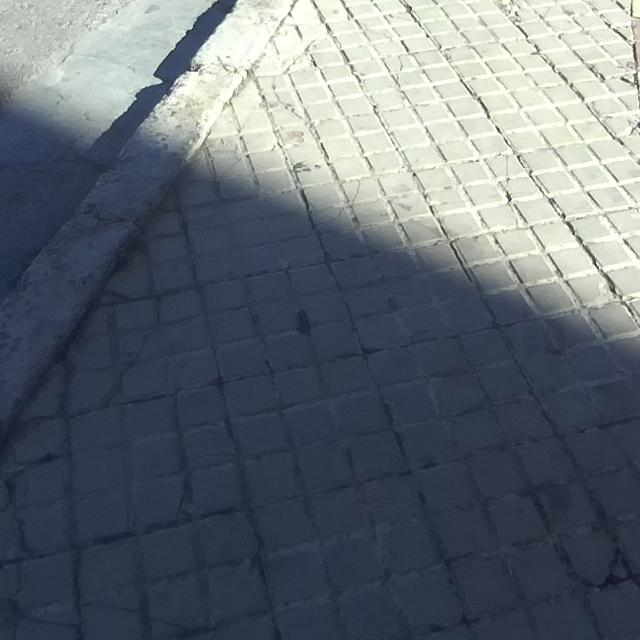calcada_quebrada: (1, 447, 65, 556), (162, 444, 241, 528), (77, 591, 208, 640), (263, 36, 326, 131), (92, 326, 157, 413), (0, 589, 75, 640), (315, 177, 365, 232), (499, 150, 518, 232), (389, 53, 410, 112)
